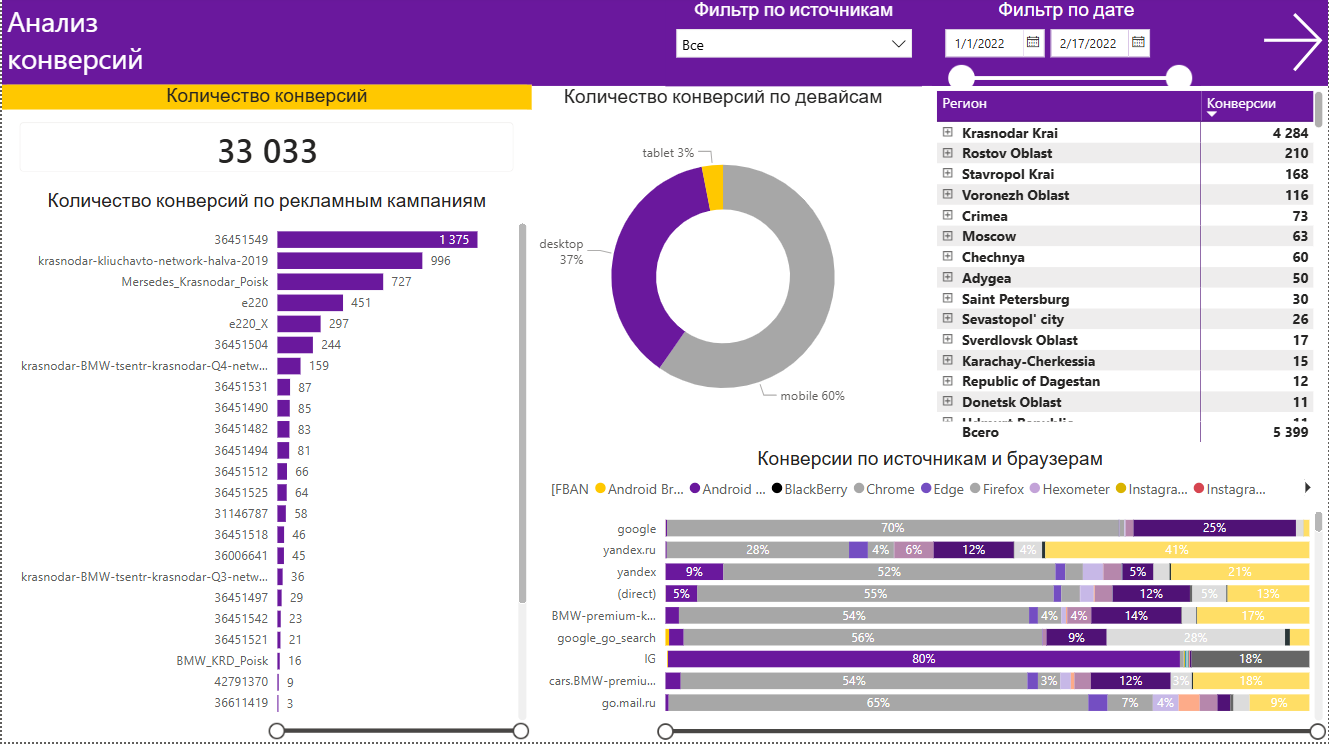

Layout of this report page (visuals, bound fields, positions):
{"tool":"powerbi","page":{"name":"Анализ конверсий","canvas":[1280,720],"ordinal":0},"visuals":[{"type":"textbox","box":[0,1.2,1280,85.7],"z":0},{"type":"cardVisual","title":"Количество конверсий","fields":{"Data":["Sum(Маркетинговые данные.Конверсия)"]},"box":[0,85.7,511.5,101.3],"z":1000},{"type":"clusteredBarChart","title":"Количество конверсий по рекламным кампаниям","fields":{"Y":["Sum(Маркетинговые данные.Конверсия)"],"Category":["Маркетинговые данные.Рекламная кампания"]},"box":[0,187,511.5,533.2],"z":2000},{"type":"donutChart","title":"Количество конверсий по девайсам","fields":{"Y":["Sum(Маркетинговые данные.Конверсия)"],"Category":["Маркетинговые данные.Девайс"]},"box":[512.7,86.9,366.8,348.7],"z":3000},{"type":"hundredPercentStackedBarChart","title":"Конверсии по источникам и браузерам","fields":{"Category":["Маркетинговые данные.Источник перехода"],"Y":["Sum(Маркетинговые данные.Конверсия)"],"Series":["Маркетинговые данные.Браузер"]},"box":[511.5,435.5,768.5,284.7],"z":4000},{"type":"slicer","title":"Фильтр по источникам","fields":{"Values":["Маркетинговые данные.Источник перехода"]},"box":[640.6,2.4,247.3,84.5],"z":5000},{"type":"slicer","title":"Фильтр по дате","fields":{"Values":["Маркетинговые данные.Дата"]},"box":[897.6,2.4,259.4,101.3],"z":6000},{"type":"pivotTable","title":"Количество конверсий по моделям","fields":{"Rows":["Маркетинговые данные.География и марки.Регион","Маркетинговые данные.География и марки.Город","Маркетинговые данные.География и марки.Марка из домена","Маркетинговые данные.География и марки.Модель_2"],"Values":["Sum(Маркетинговые данные.Конверсия)"]},"box":[897.6,86.9,382.4,348.7],"z":7000},{"type":"actionButton","box":[1179.9,9.7,100.1,70],"z":8000}]}

Visuals, with their boxes in screenshot pixels (x1, y1, x2, y2), scaled from the page's 1280x720 canvas onto the 1329x746 screenshot:
textbox: bbox=(0, 1, 1328, 90)
"Количество конверсий" cardVisual: bbox=(0, 89, 531, 194)
"Количество конверсий по рекламным кампаниям" clusteredBarChart: bbox=(0, 194, 531, 745)
"Количество конверсий по девайсам" donutChart: bbox=(532, 90, 913, 451)
"Конверсии по источникам и браузерам" hundredPercentStackedBarChart: bbox=(531, 451, 1328, 745)
"Фильтр по источникам" slicer: bbox=(665, 2, 922, 90)
"Фильтр по дате" slicer: bbox=(932, 2, 1201, 107)
"Количество конверсий по моделям" pivotTable: bbox=(932, 90, 1328, 451)
actionButton: bbox=(1225, 10, 1328, 83)
